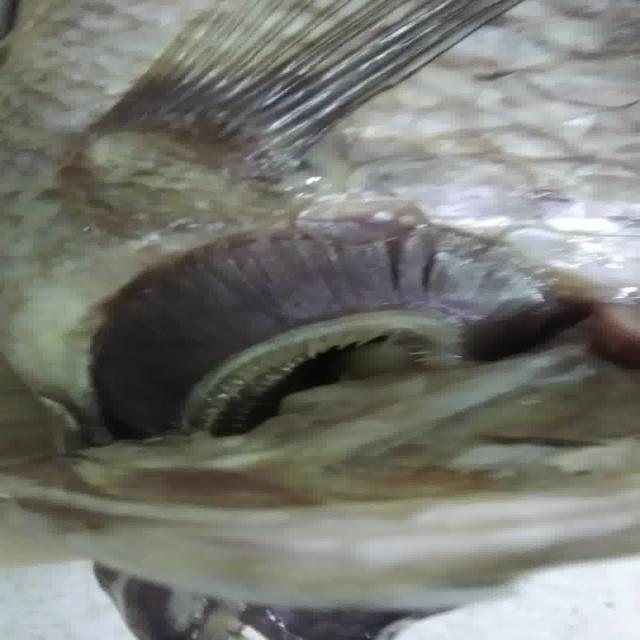Non-Fresh: (58, 212, 614, 447)
